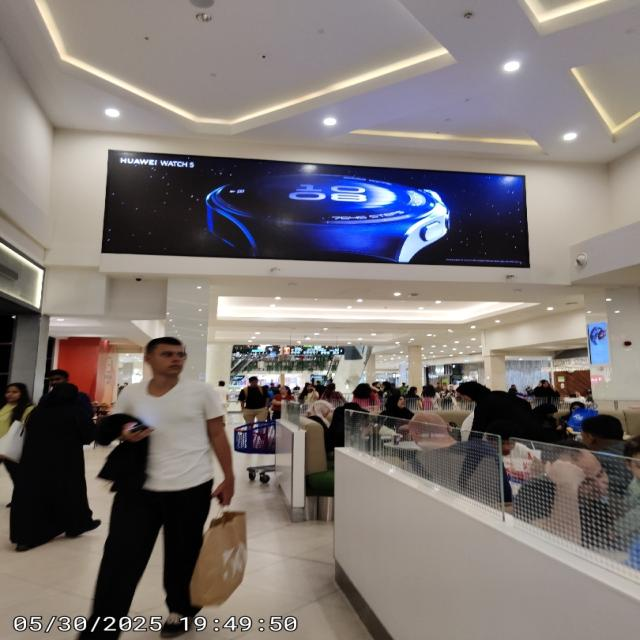rectangle-wide-board: (99, 152, 529, 266)
